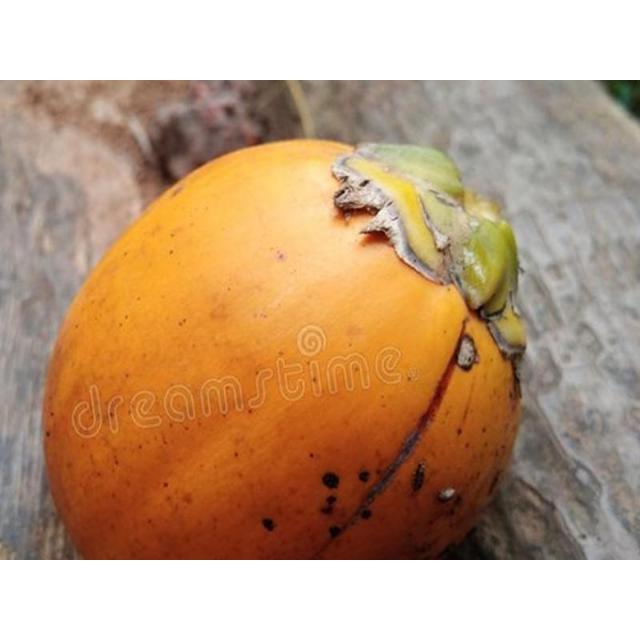good: (39, 138, 526, 559)
